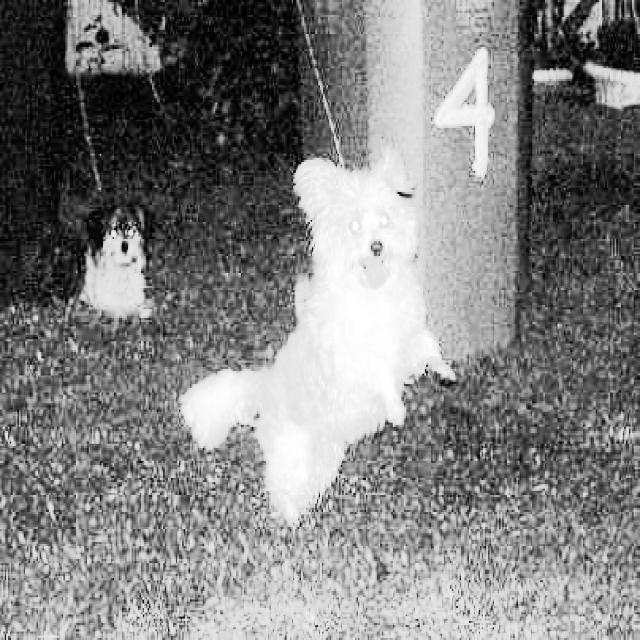Dog: (186, 134, 457, 535), (90, 193, 148, 343)
